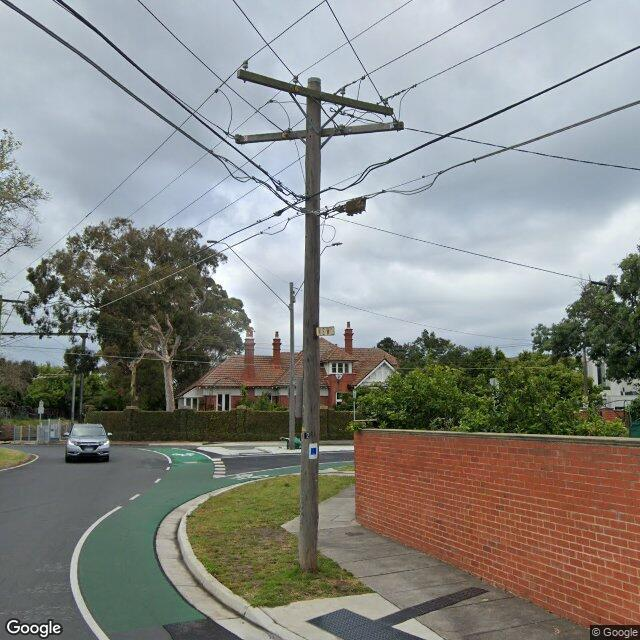crossarm: (216, 88, 404, 145), (238, 58, 393, 116)
steel-pole: (290, 281, 294, 451)
streetlight: (207, 238, 290, 312), (295, 242, 343, 299), (0, 290, 30, 337)
timber-pole: (297, 77, 323, 571)
